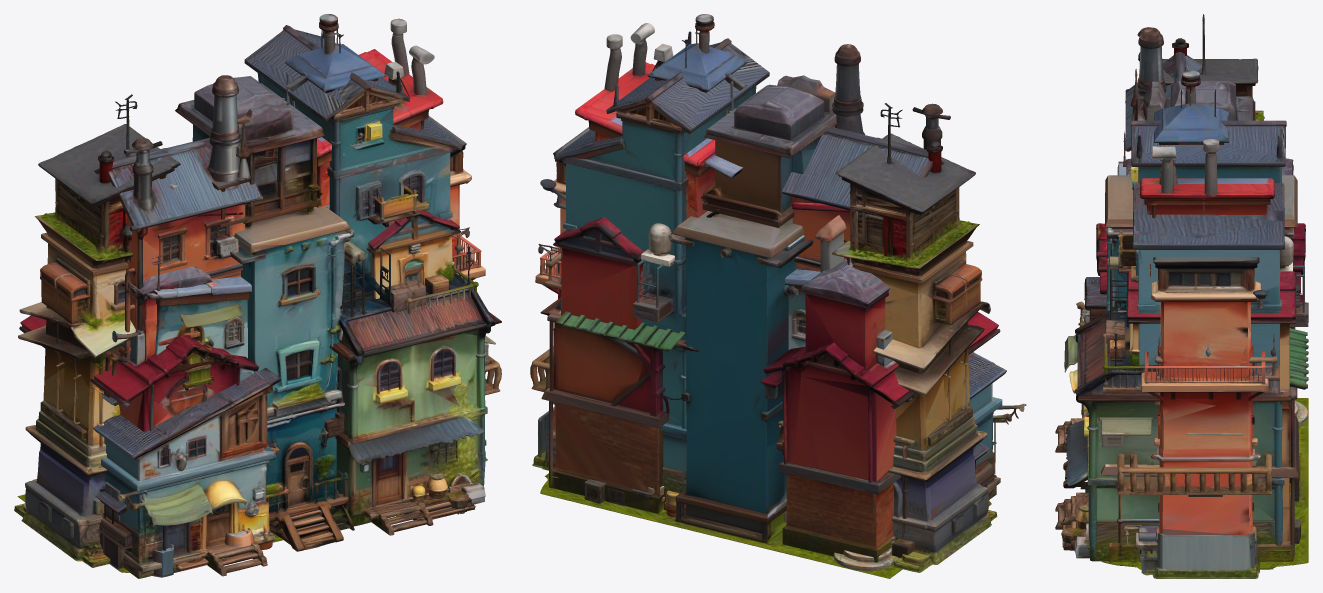
The model's file is StylizedBuildings.glb.
The picture shows the model from 3 angles, left to right: view 1: azimuth 30°, elevation 25°; view 2: azimuth 150°, elevation 25°; view 3: azimuth 270°, elevation 25°; orthographic projection. The views are drawn at different scales.
Parts seen in each view (by area): view 1: Stylized_Building_1, Stylized_Building_3, Stylized_Building_2, Stylized_Building_4; view 2: Stylized_Building_3, Stylized_Building_2, Stylized_Building_1, Stylized_Building_4; view 3: Stylized_Building_1, Stylized_Building_2, Stylized_Building_3, Stylized_Building_4.
Boxes of the visible parts, box(x1,y1,x2,y2) form: Stylized_Building_1: box(93, 25, 501, 578); Stylized_Building_3: box(17, 76, 478, 577); Stylized_Building_2: box(14, 72, 487, 567); Stylized_Building_4: box(112, 14, 481, 562); Stylized_Building_3: box(540, 75, 1000, 578); Stylized_Building_2: box(532, 81, 997, 572); Stylized_Building_1: box(530, 31, 1026, 511); Stylized_Building_4: box(552, 14, 908, 547); Stylized_Building_1: box(1055, 27, 1308, 561); Stylized_Building_2: box(1124, 14, 1308, 578); Stylized_Building_3: box(1062, 69, 1308, 569); Stylized_Building_4: box(1086, 70, 1308, 552).
Bounding box in the file's own units: 10.1 × 10.83 × 5.64.
4 materials, 4 textured.
